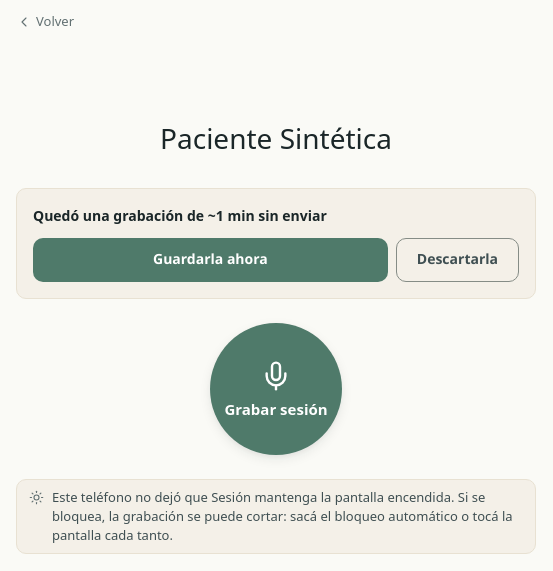
Test: al volver a entrar con una grabación sin turno guardada › sin red, guardarla deja la grabación donde estaba y lo dice
Click the button "Guardarla ahora" at [210, 260], box 33,238 -> 388,282
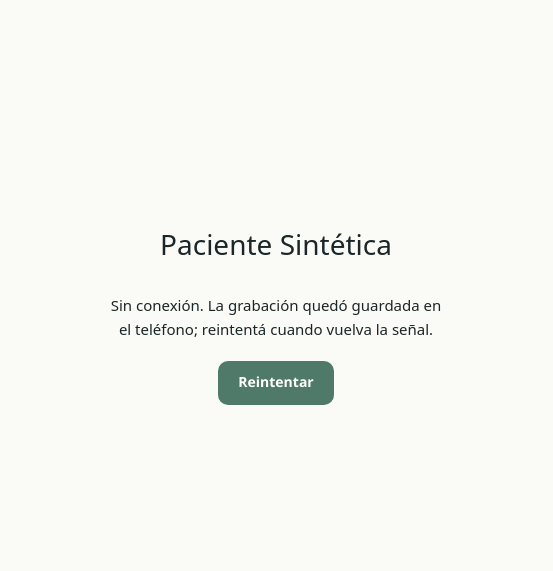
Check: the text "Sin conexión. La grabación quedó guardada en el teléfono; reintentá cuando vuelva la señal." is shown, box 111,295 -> 441,339
